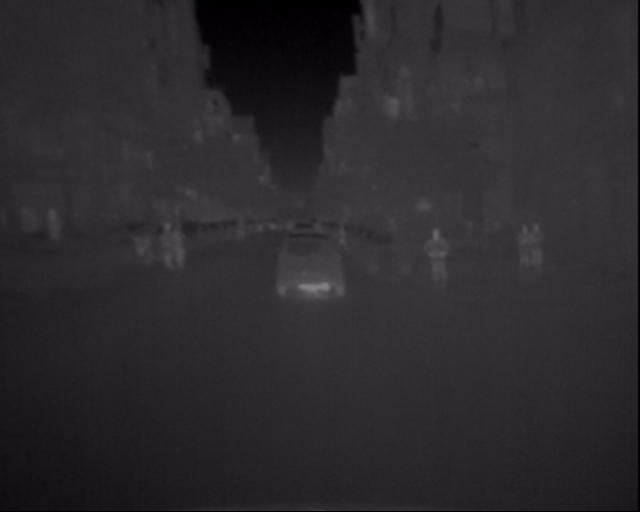person: (423, 222, 462, 301), (511, 212, 540, 279), (526, 213, 557, 275), (151, 218, 181, 277)
